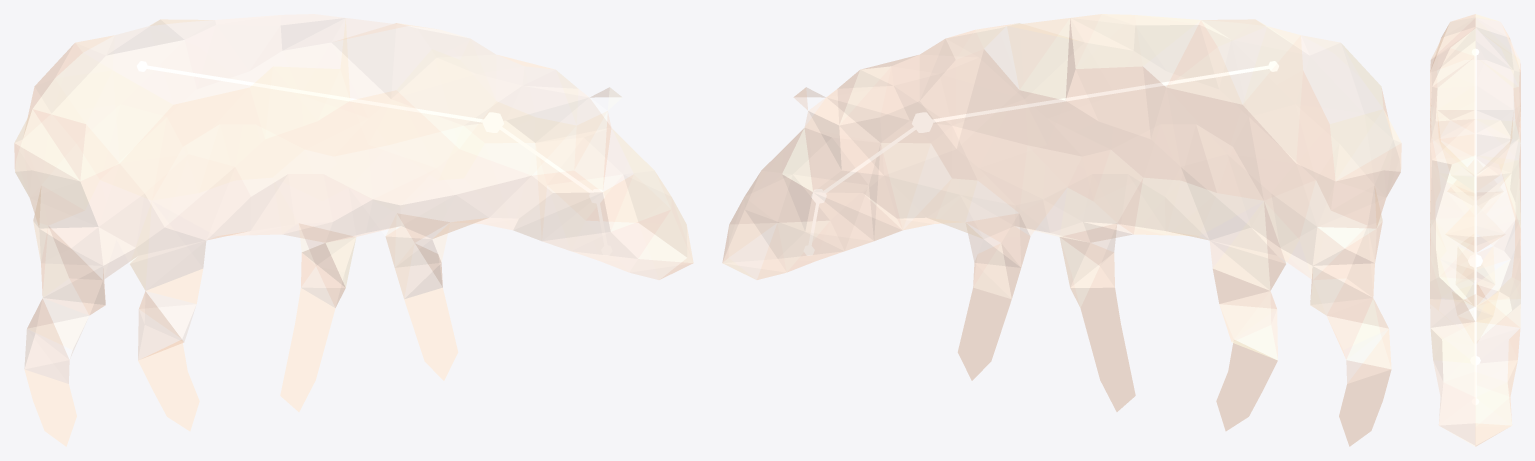
The model's file is 01_Aries.glb.
The picture shows the model from 3 angles, left to right: view 1: azimuth 30°, elevation 25°; view 2: azimuth 150°, elevation 25°; view 3: azimuth 270°, elevation 25°; orthographic projection. The views are drawn at different scales.
Visible parts, largest first — view 1: Aries; view 2: Aries; view 3: Aries.
Part boxes in pixels (left/top/right/bottom): Aries: left=14, top=14, right=693, bottom=446; Aries: left=722, top=14, right=1401, bottom=446; Aries: left=1430, top=14, right=1520, bottom=446.
Bounding box in the file's own units: 1.71 × 1.04 × 0.3.
